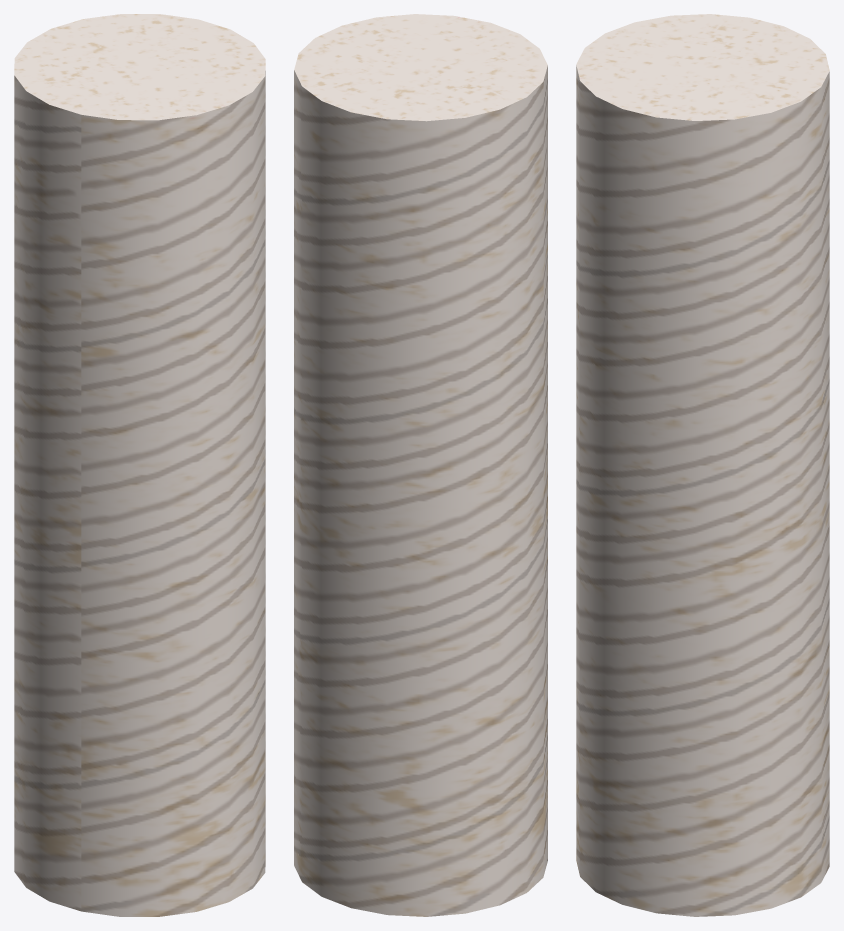
File: hashira_s.fbx
3 views of the same model, side by side, from view 1: azimuth 30°, elevation 25°; view 2: azimuth 150°, elevation 25°; view 3: azimuth 270°, elevation 25° (orthographic).
Parts seen in each view (by area): view 1: hashira_S; view 2: hashira_S; view 3: hashira_S.
Boxes of the visible parts, <box> form: hashira_S: <box>14,14,265,916</box>; hashira_S: <box>294,14,547,916</box>; hashira_S: <box>576,14,829,916</box>.
Bounding box in the file's own units: 53.88 × 187 × 53.88.
1 material, 1 textured.
